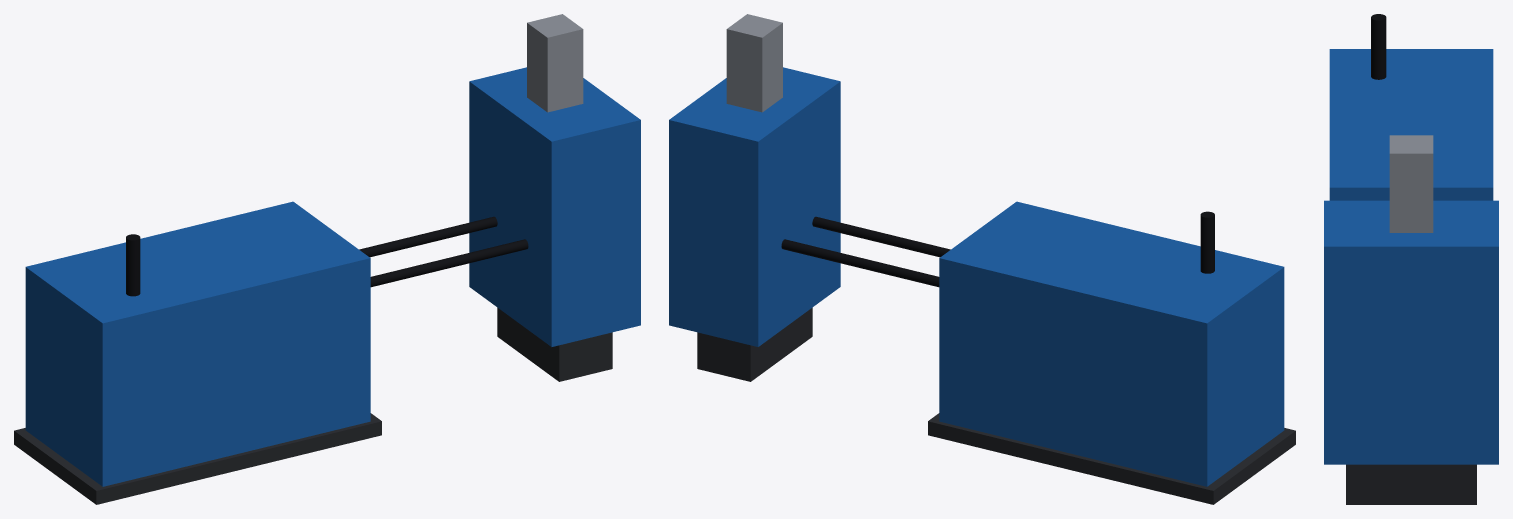
The model's file is vibro-hammer.glb.
3 views of the same model, side by side, from view 1: azimuth 30°, elevation 25°; view 2: azimuth 150°, elevation 25°; view 3: azimuth 270°, elevation 25° (orthographic). The views are drawn at different scales.
Size of the model in its own units: 6.1 by 3.5 by 1.6.
